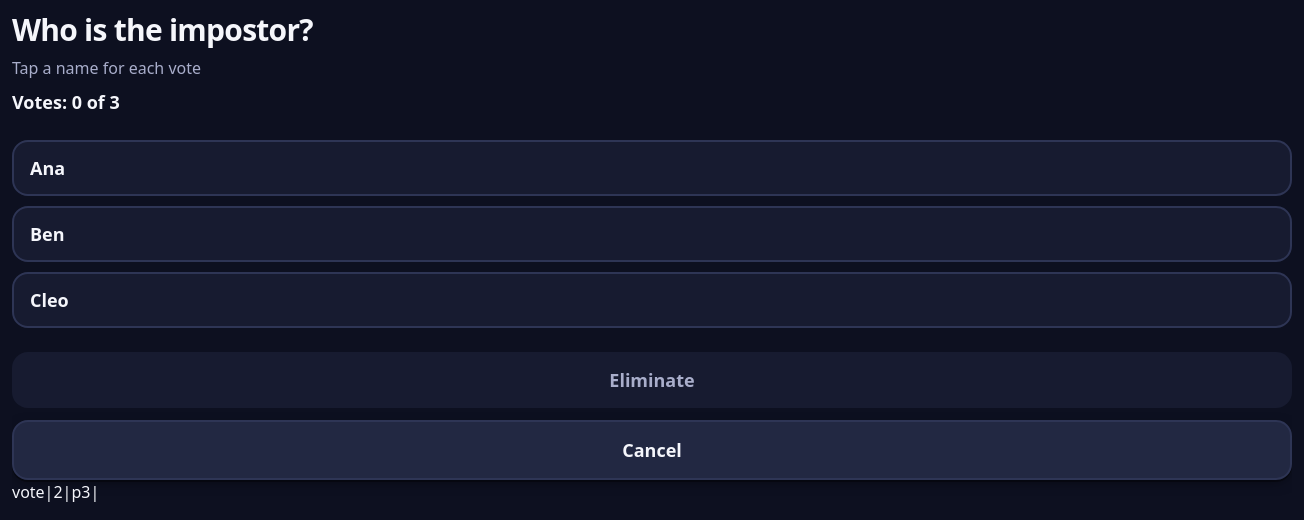
Scenario: VoteScreen tally › offers another round on a tie and redraws the opener
Click the button "Ana" at x=48, y=168, box [12,140,1292,196]
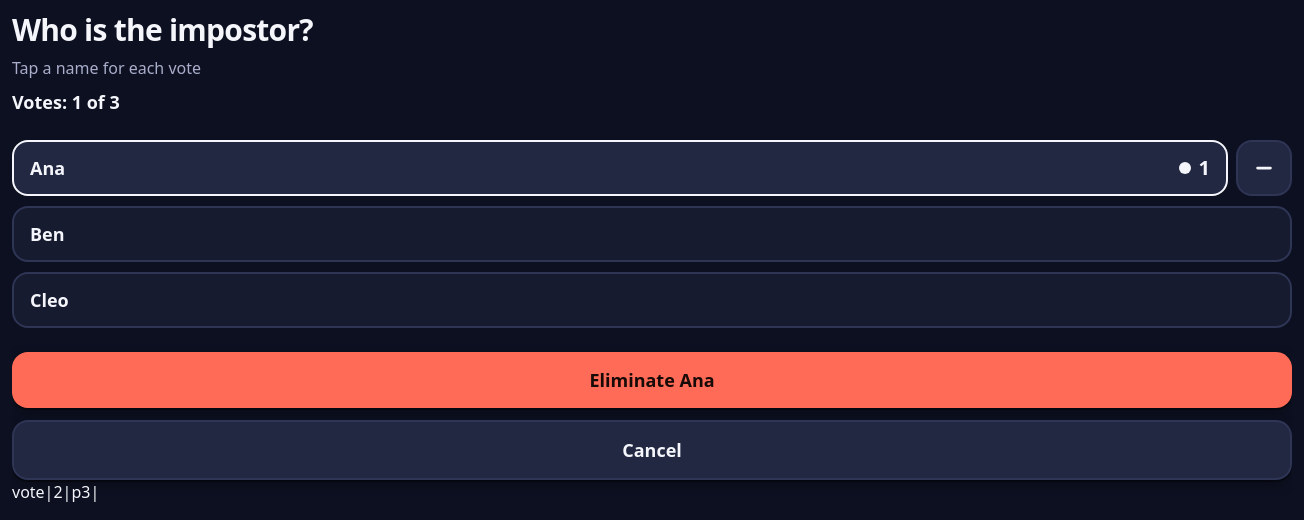
Click the button "Ben" at x=47, y=234, box [12,206,1292,262]
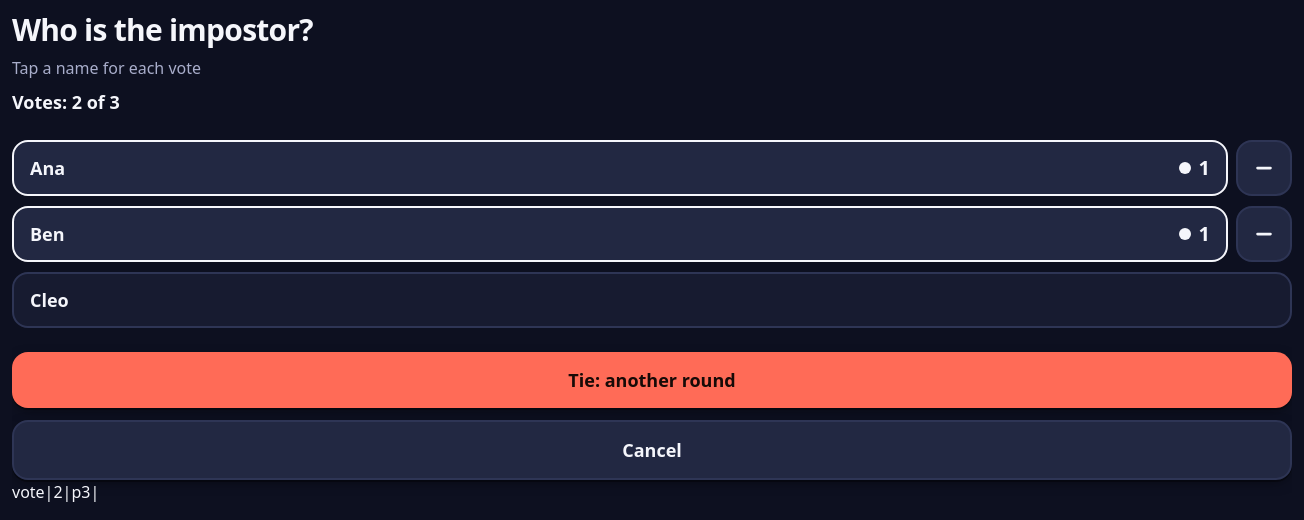
Click the button "Tie: another round" at x=652, y=380, box [12,352,1292,408]
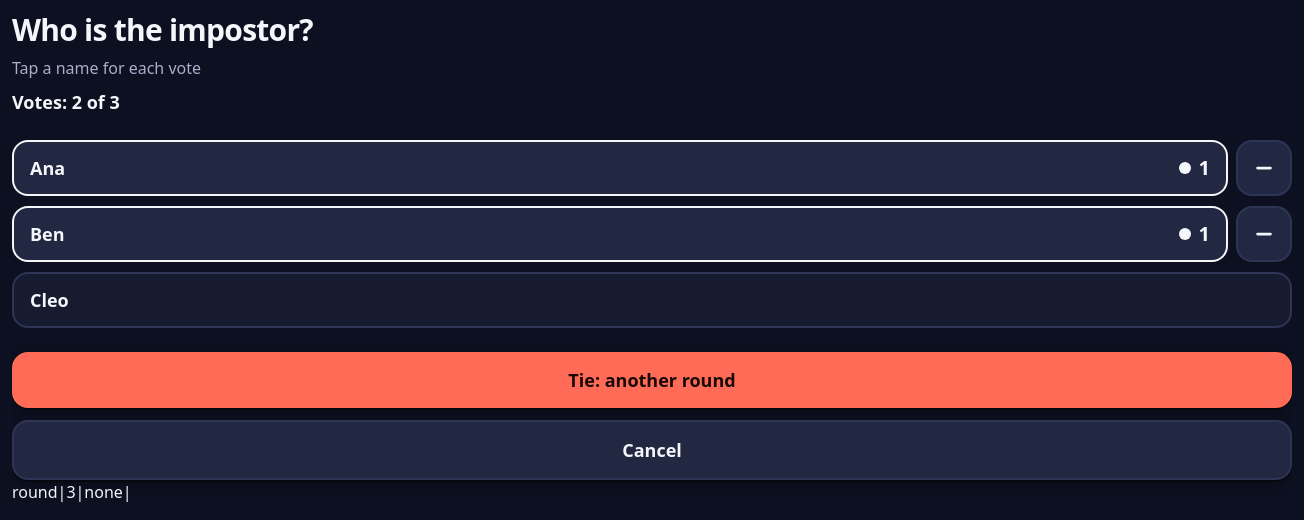
Expected: the text with test id "probe" reads "round|3|none|", [12,481,132,503]
